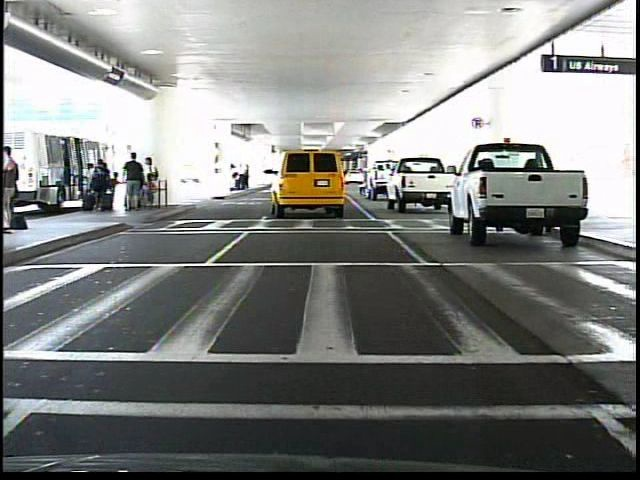person: (4, 144, 26, 231)
